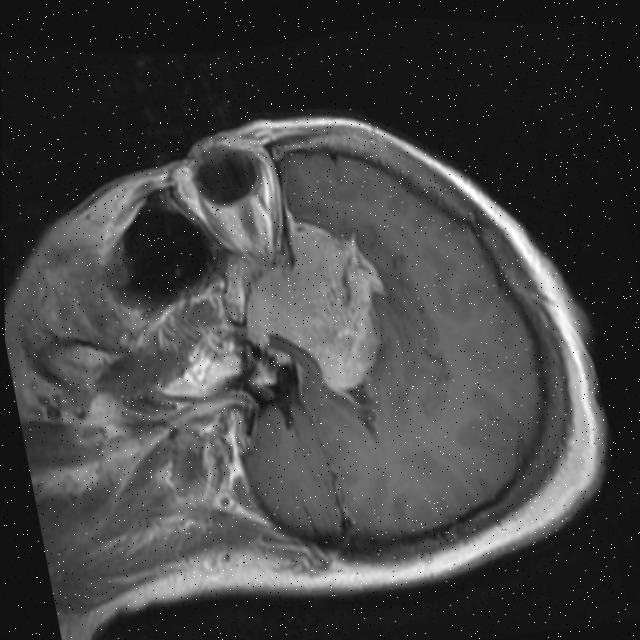Meningioma: (224, 202, 406, 411)
